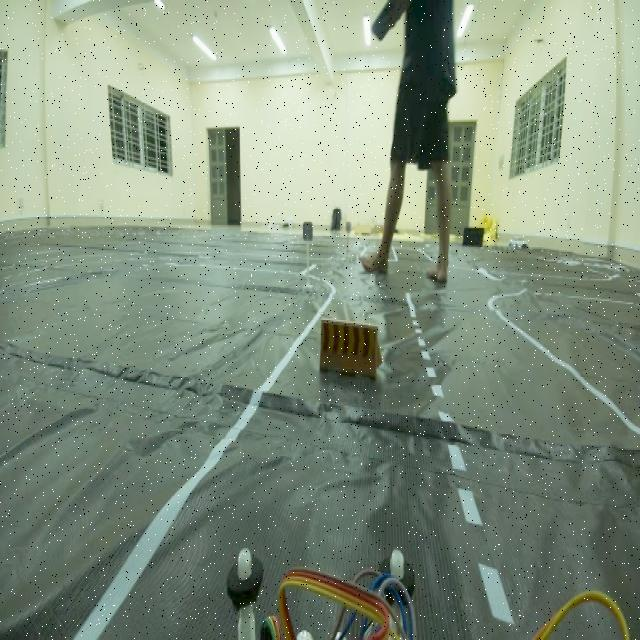roadblock: (311, 306, 389, 408)
